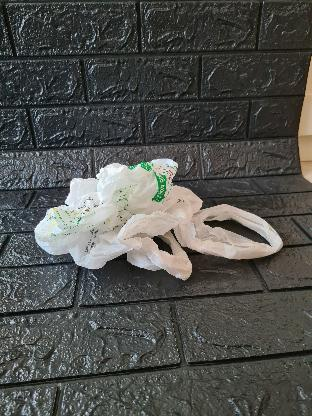Plastic Bag: (35, 156, 285, 283)
